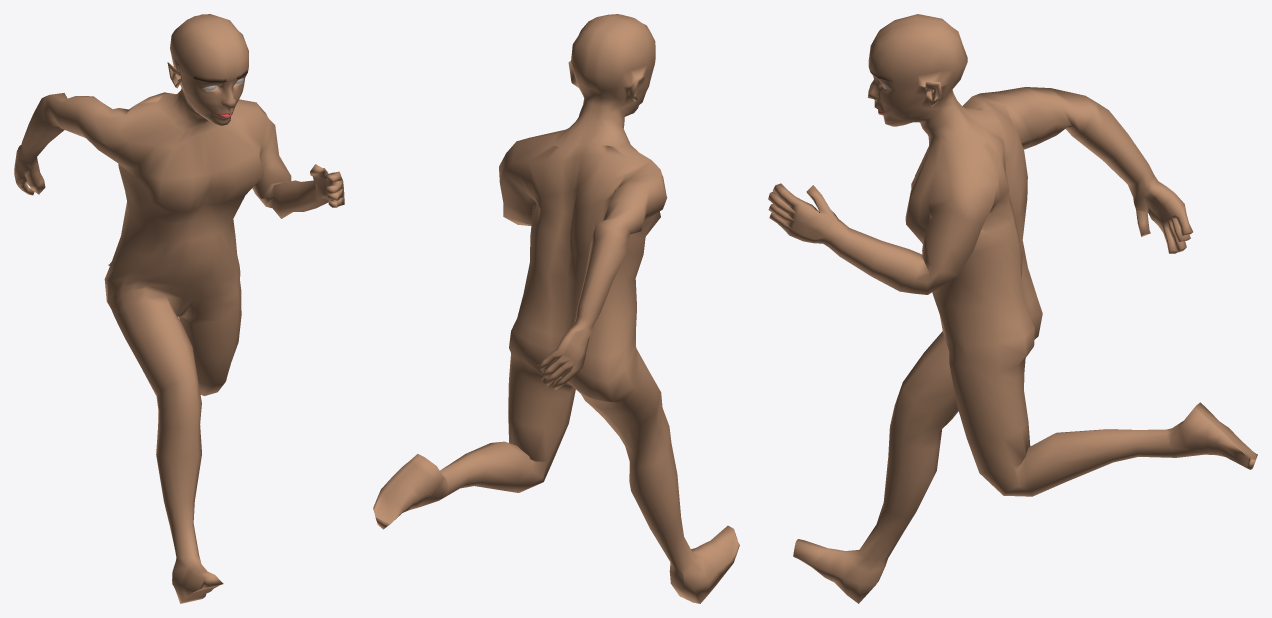
Rendered from human_running_3.fbx.
3 renders of one model, left to right at view 1: azimuth 30°, elevation 25°; view 2: azimuth 150°, elevation 25°; view 3: azimuth 270°, elevation 25°, orthographic. The views are drawn at different scales.
Visible parts, largest first — view 1: body; view 2: body; view 3: body.
Part boxes in pixels (box(x1,y1,x2,y2)): body: box(14, 14, 344, 603); body: box(373, 14, 739, 603); body: box(768, 14, 1257, 603).
Size of the model in its own units: 199 by 581 by 427.
